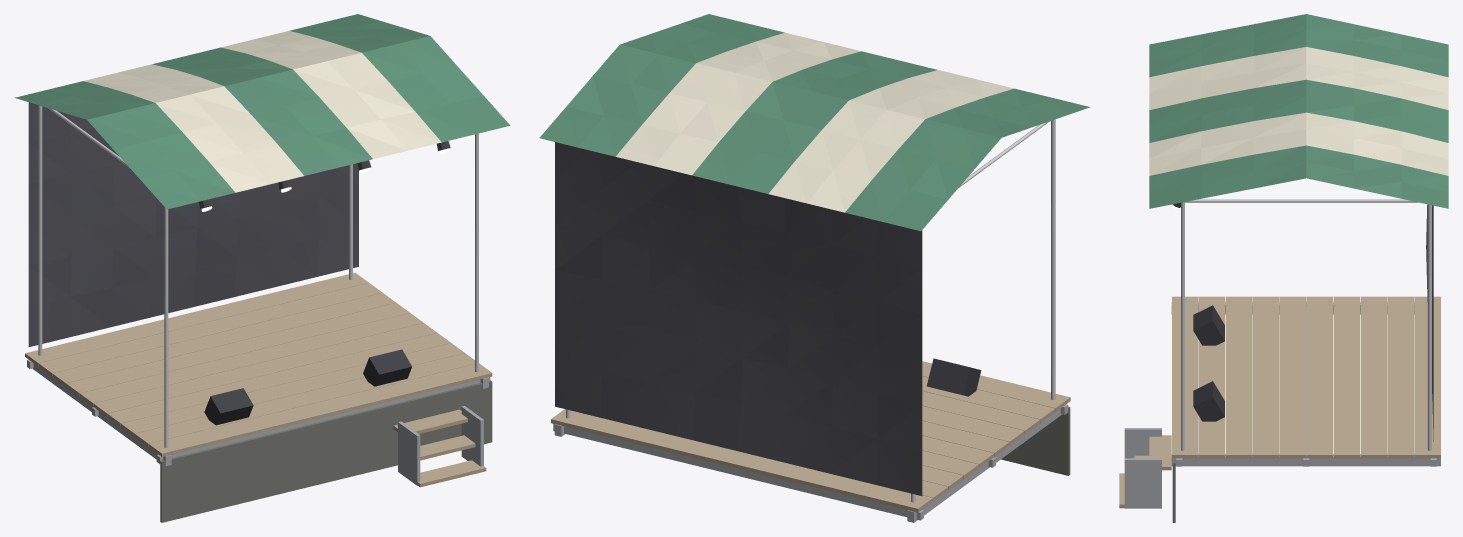
Rendered from festival_stage_a.glb.
3 views of the same model, side by side, from view 1: azimuth 30°, elevation 25°; view 2: azimuth 150°, elevation 25°; view 3: azimuth 270°, elevation 25° (orthographic). The views are drawn at different scales.
Parts seen in each view (by area): view 1: body; view 2: body; view 3: body.
Boxes of the visible parts, left/top/right/bottom form: body: left=14, top=14, right=510, bottom=522; body: left=539, top=14, right=1090, bottom=522; body: left=1119, top=14, right=1448, bottom=522.
Size of what is drawn, in the model's own units: 5.2 by 5.15 by 4.4.
